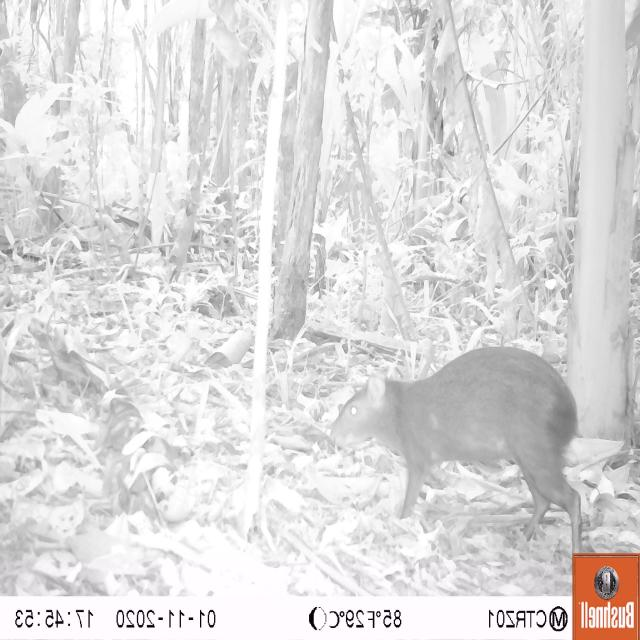Black Agouti: (320, 335, 597, 559)
